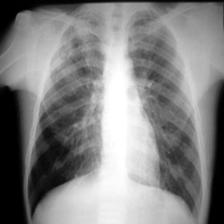tuberculosis: (21, 0, 209, 224)
